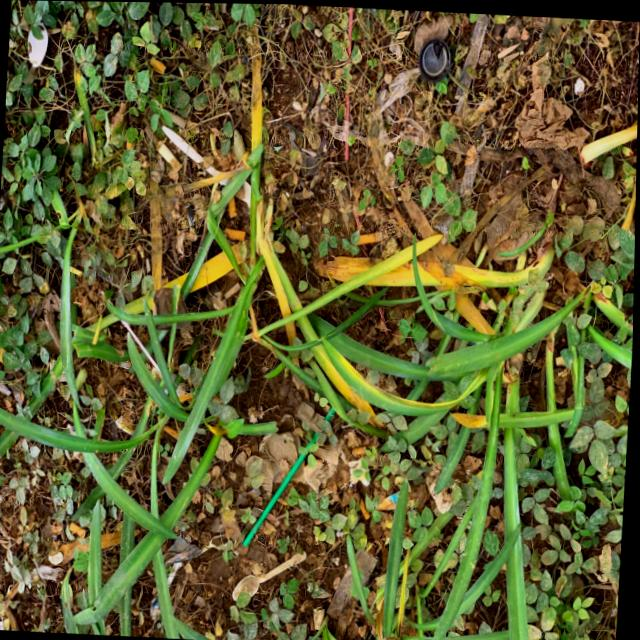Plastic: (240, 394, 344, 555), (153, 117, 268, 216), (415, 32, 456, 85)
